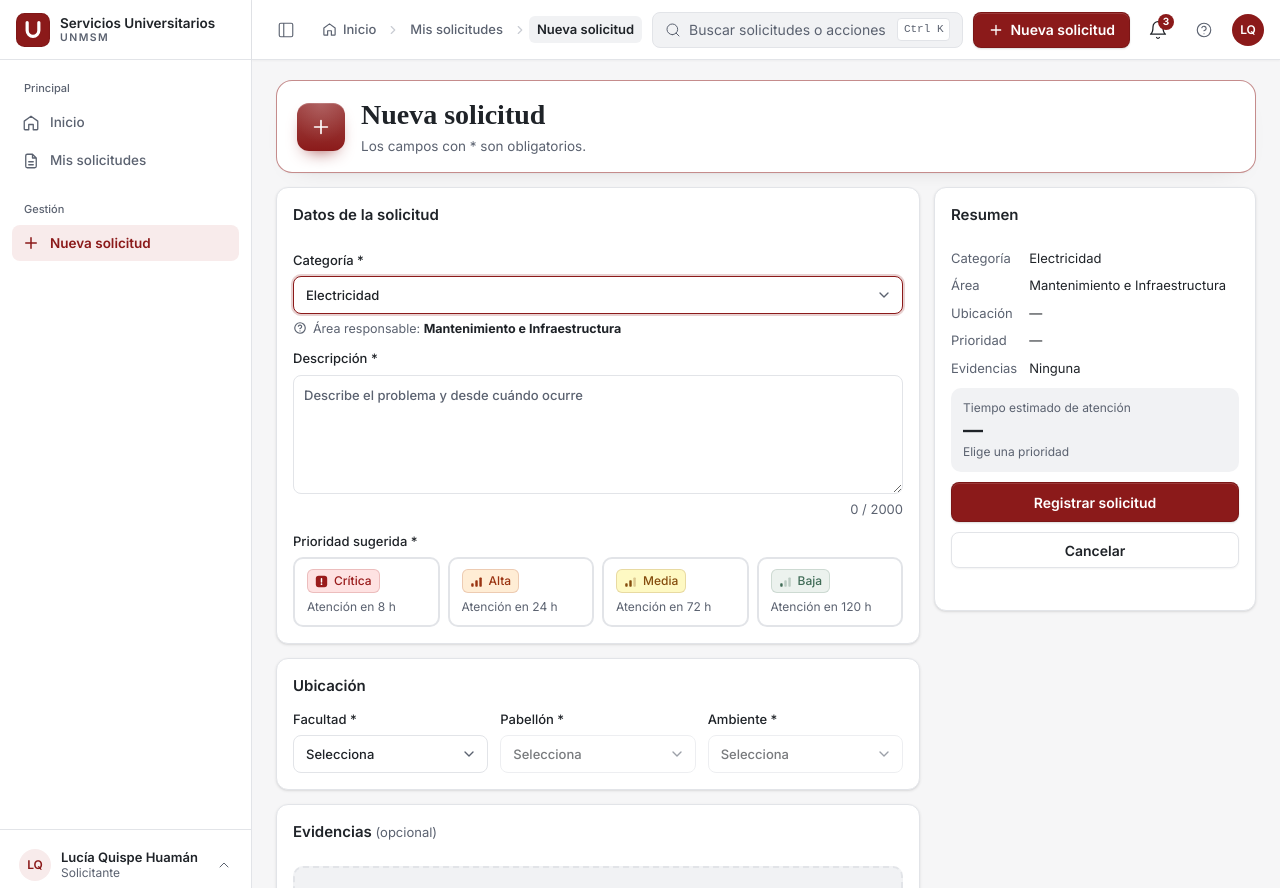
Nueva solicitud › no envía el formulario con la descripción fuera de rango
The width and height of the screenshot is (1280, 888).
Earlier steps of the test are not shown.
Select "Facultad de Medicina" in the dropdown labelled "Facultad *": (391, 754) x1=293 y1=735 x2=488 y2=773
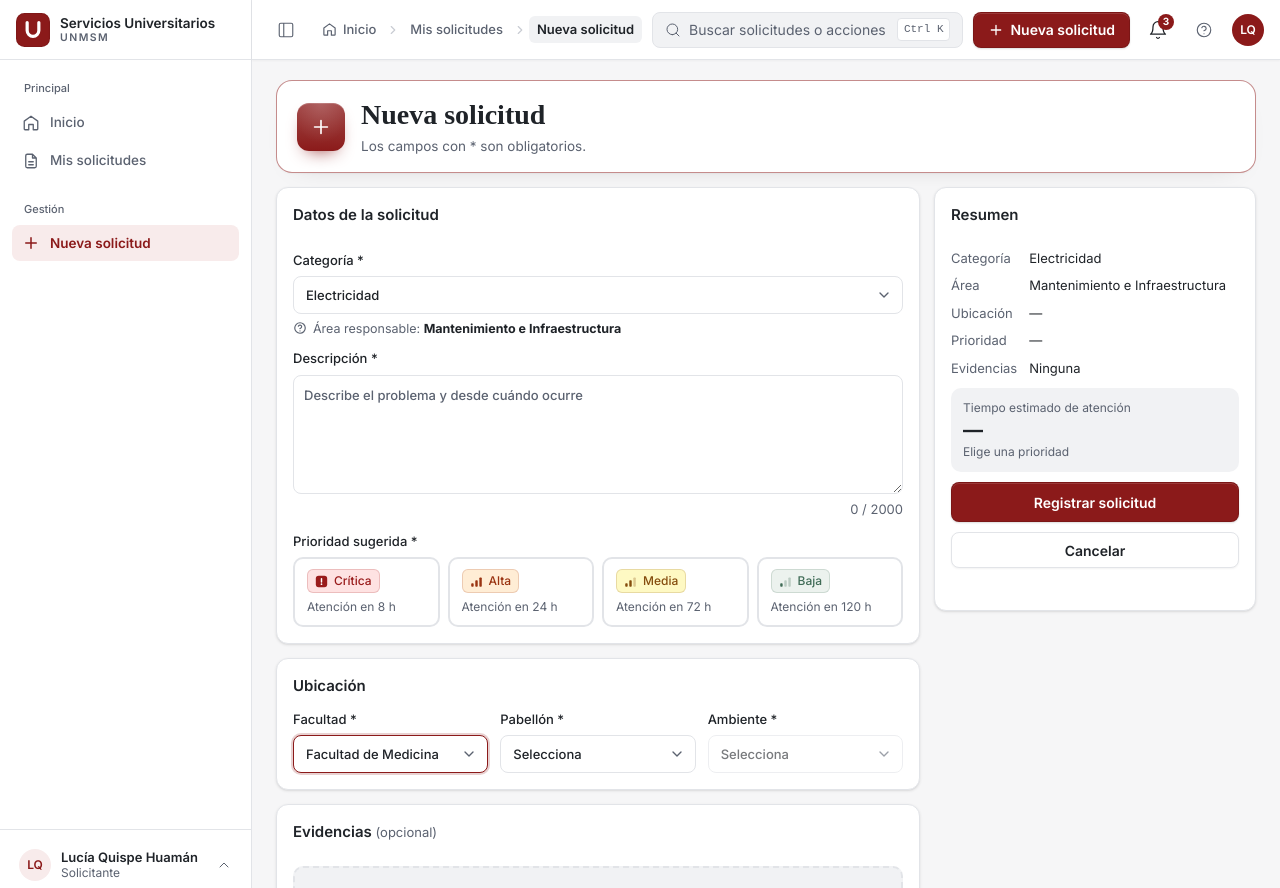
Select "Pabellón Central" in the dropdown labelled "Pabellón *": (598, 754) x1=500 y1=735 x2=696 y2=773
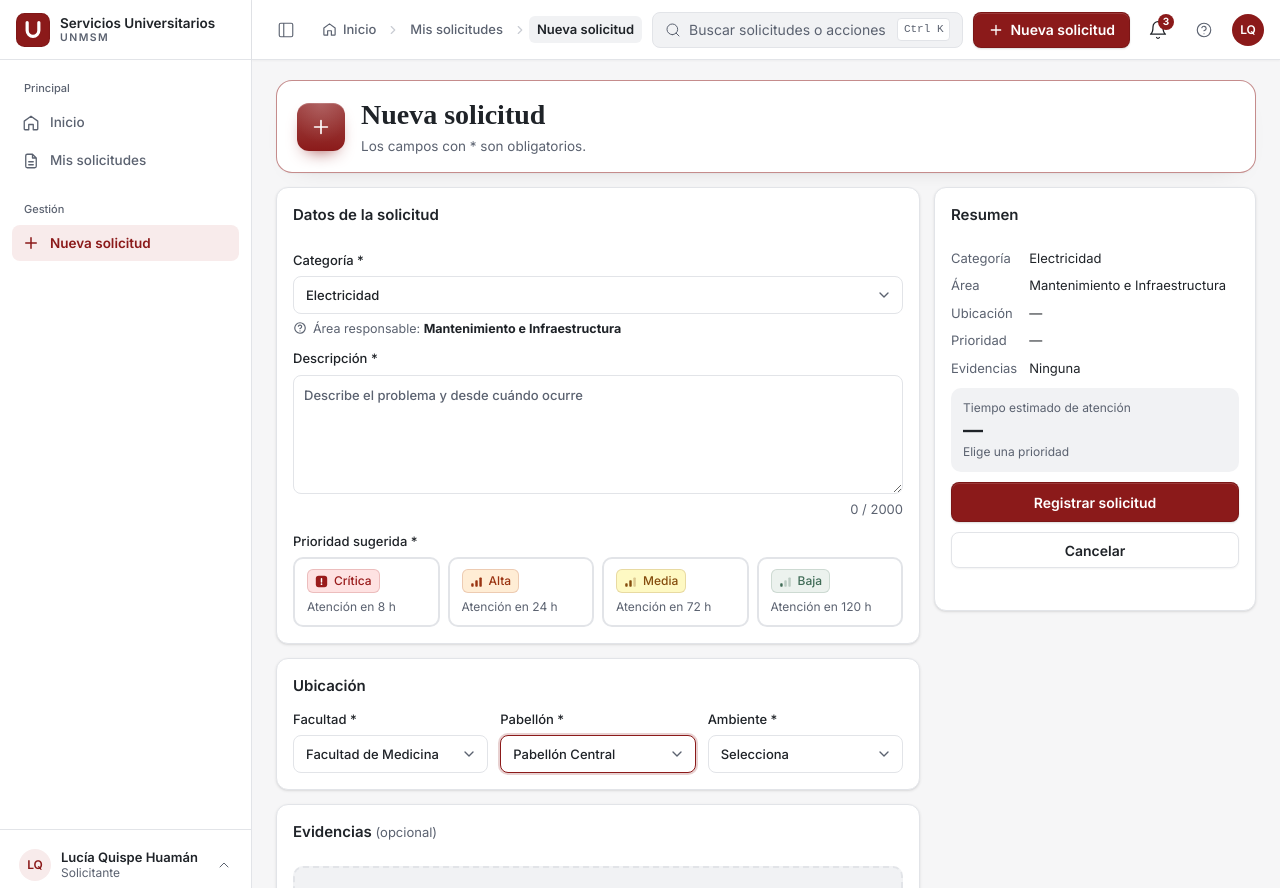
Select "Aula 12" in the dropdown labelled "Ambiente *": (805, 754) x1=708 y1=735 x2=903 y2=773
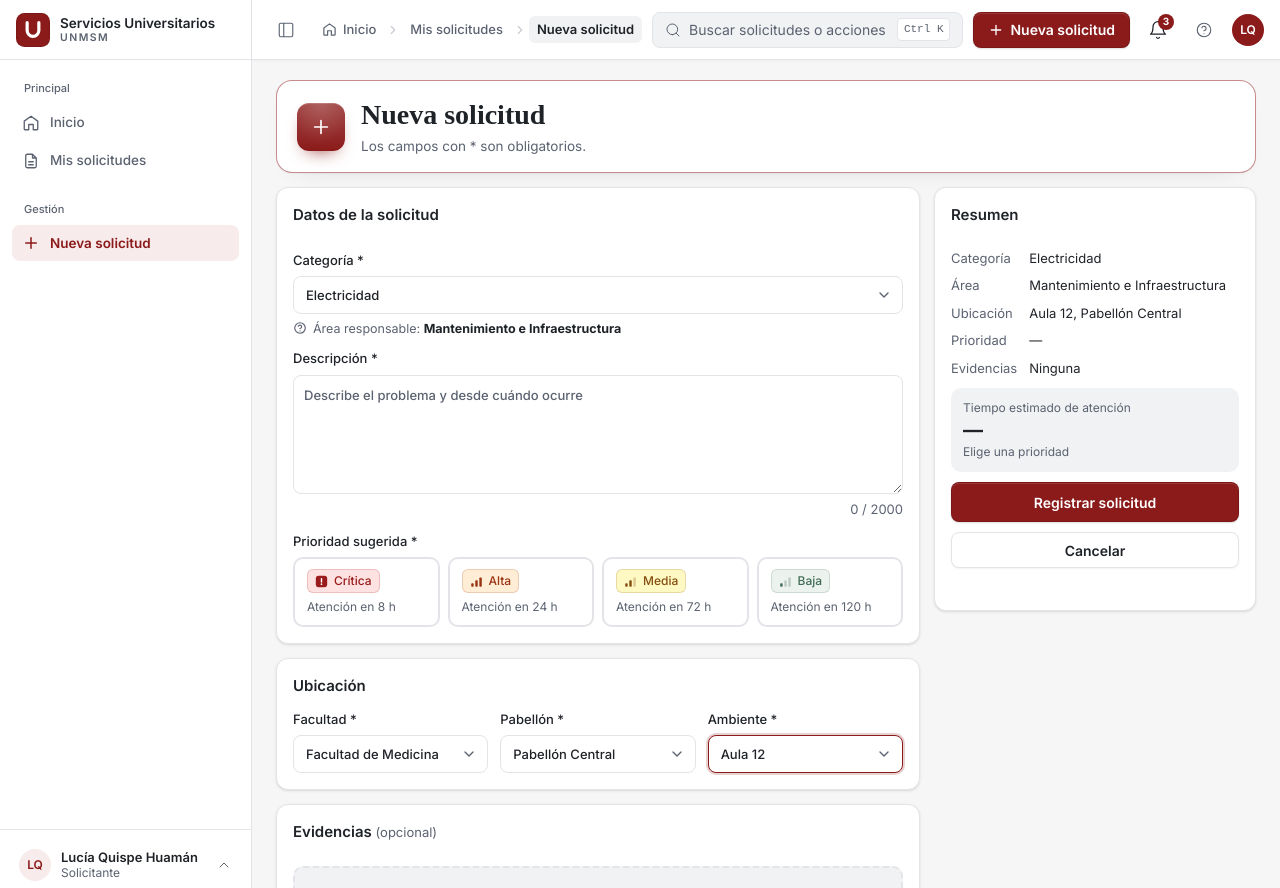
In the text box labelled "Descripción *": (598, 435) x1=293 y1=375 x2=903 y2=494, type "muy corta"
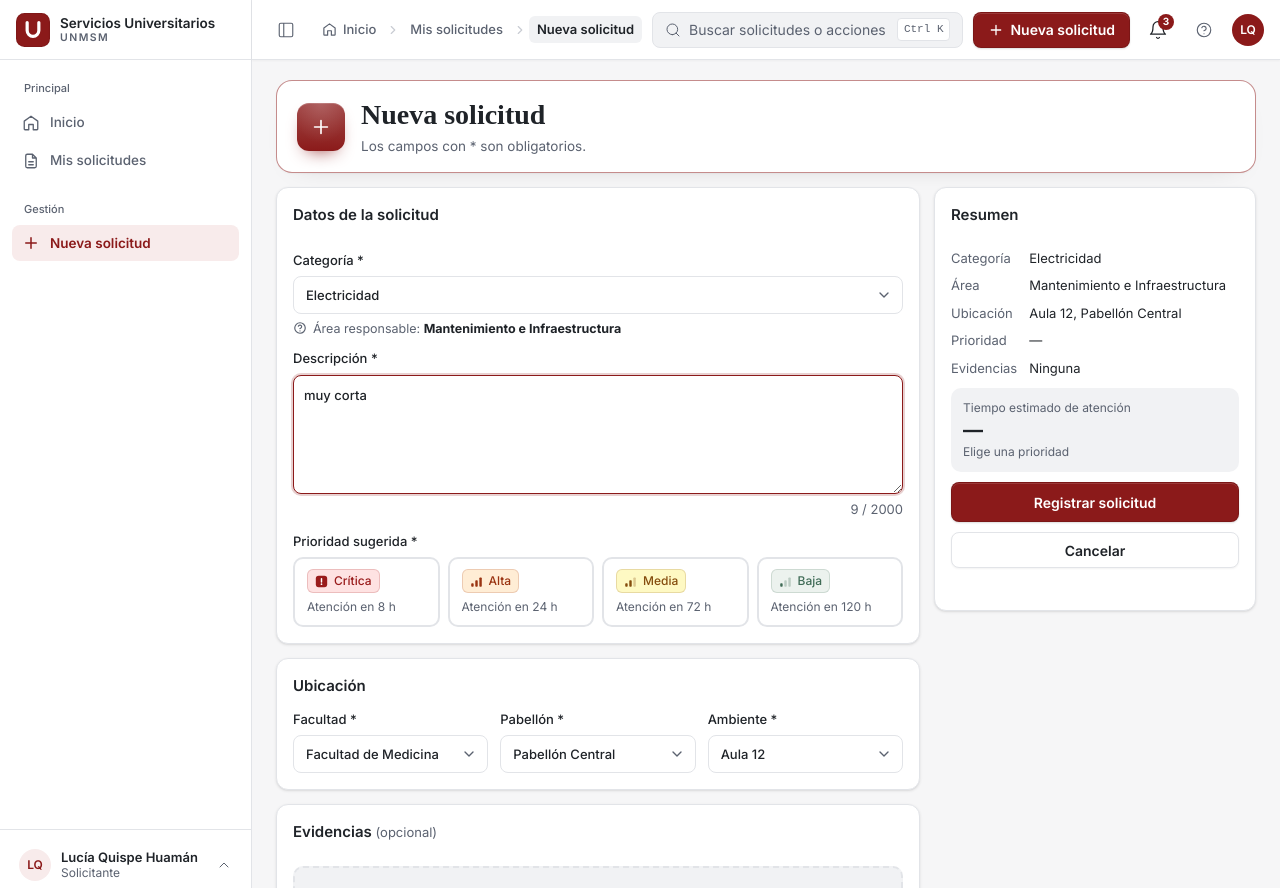
Click the radio button labelled "Alta Atención en 24 h": (521, 592) x1=448 y1=557 x2=594 y2=627
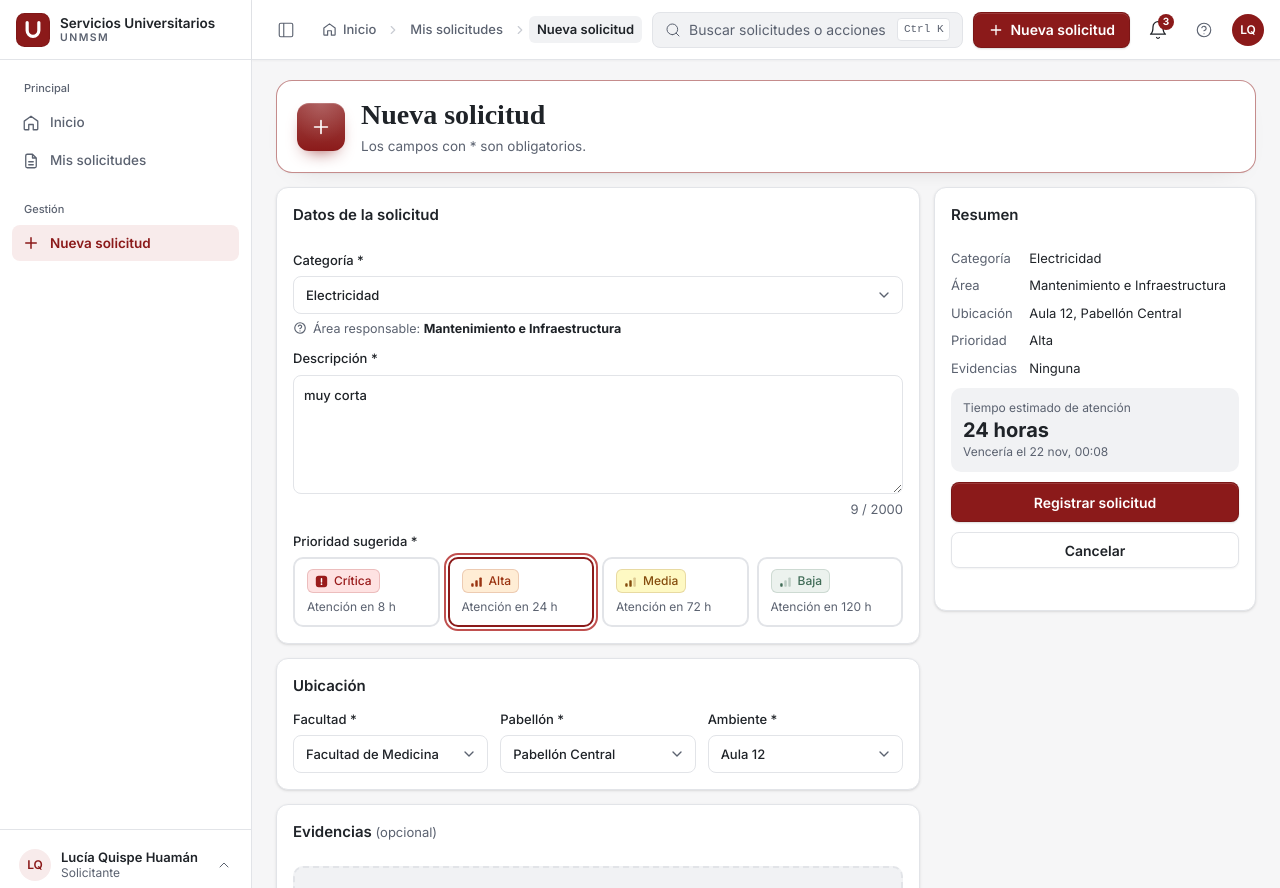
Click the button "Registrar solicitud": (1095, 502) x1=951 y1=482 x2=1239 y2=522
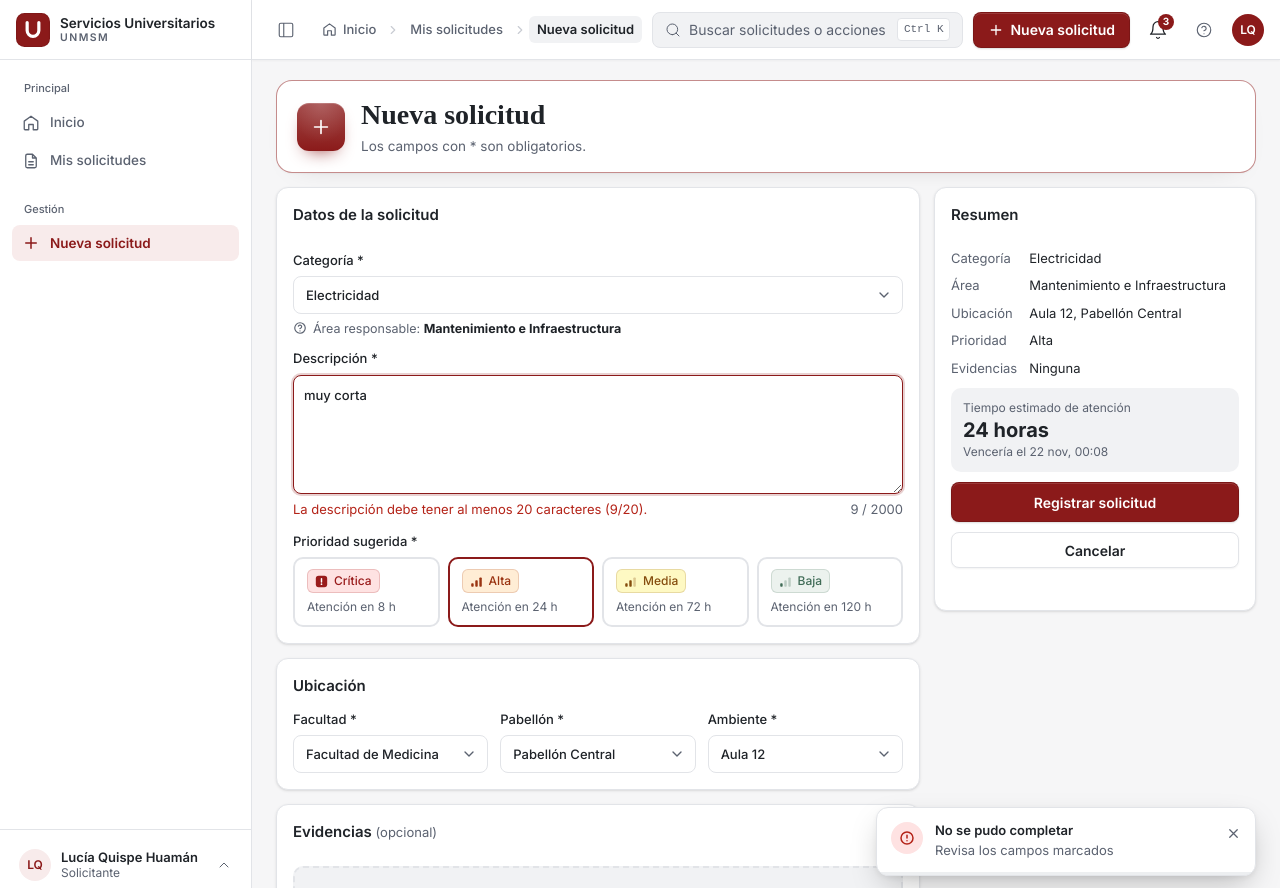
Expected: the text "La descripción debe tener al menos 20 caracteres (9/20)." is shown, x1=293 y1=500 x2=647 y2=520
